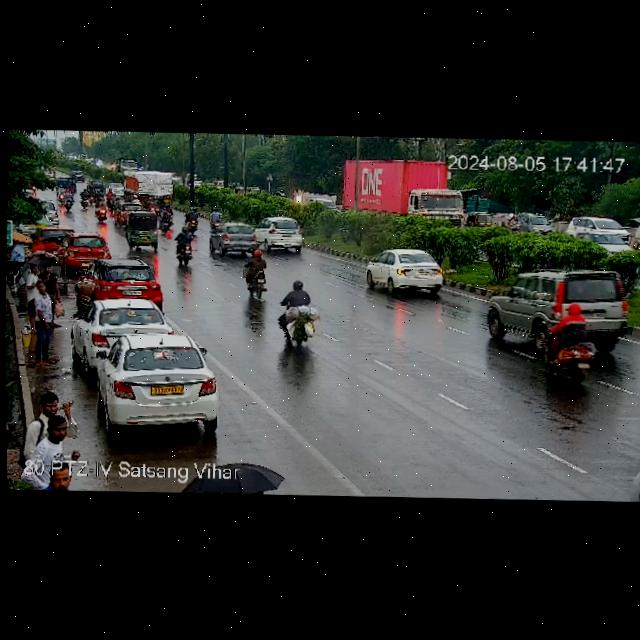car: (92, 329, 218, 432), (74, 298, 169, 365), (80, 256, 166, 304), (368, 243, 447, 289), (57, 232, 110, 269), (256, 218, 311, 252), (569, 214, 628, 243), (213, 222, 255, 253), (126, 212, 157, 247), (515, 214, 552, 235), (35, 227, 71, 247), (308, 197, 338, 214), (466, 211, 494, 228), (85, 176, 106, 191), (115, 203, 128, 225), (57, 176, 74, 192), (70, 168, 86, 183), (234, 185, 247, 196)
motorcycle: (533, 304, 599, 376), (273, 277, 322, 348), (234, 249, 269, 297), (184, 204, 204, 234), (176, 230, 192, 260), (158, 208, 172, 233), (94, 197, 107, 222), (62, 190, 74, 212), (209, 207, 220, 231), (80, 189, 90, 210), (278, 189, 285, 198)
person: (29, 391, 75, 463), (26, 276, 57, 359)
truck: (484, 262, 630, 340), (339, 157, 470, 226), (124, 166, 175, 203), (114, 156, 138, 172)
